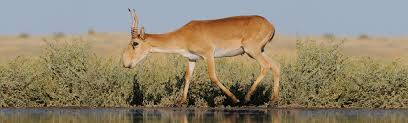saiga: (121, 6, 282, 108)
